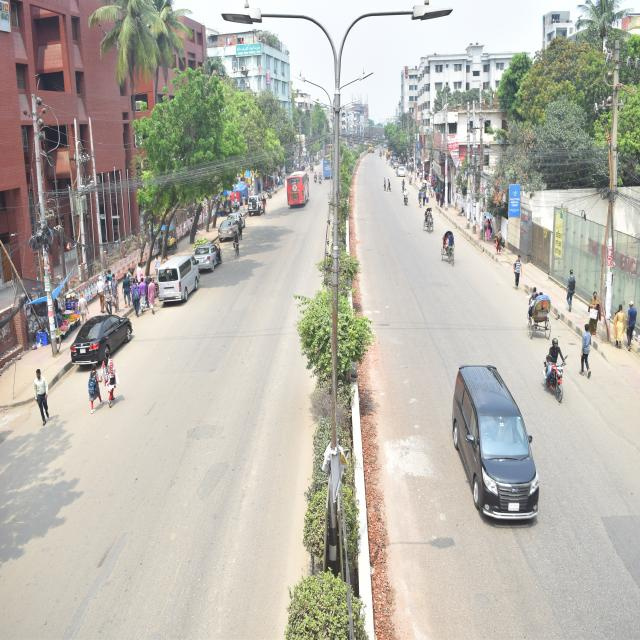bus: (282, 161, 316, 212), (317, 134, 339, 186)
car: (58, 303, 152, 385), (187, 225, 224, 280), (211, 217, 250, 242), (242, 194, 278, 221)
microbus: (421, 335, 547, 526), (145, 247, 204, 302)
motorbike: (536, 333, 581, 412), (400, 187, 419, 210), (310, 165, 318, 193), (316, 170, 323, 188)
